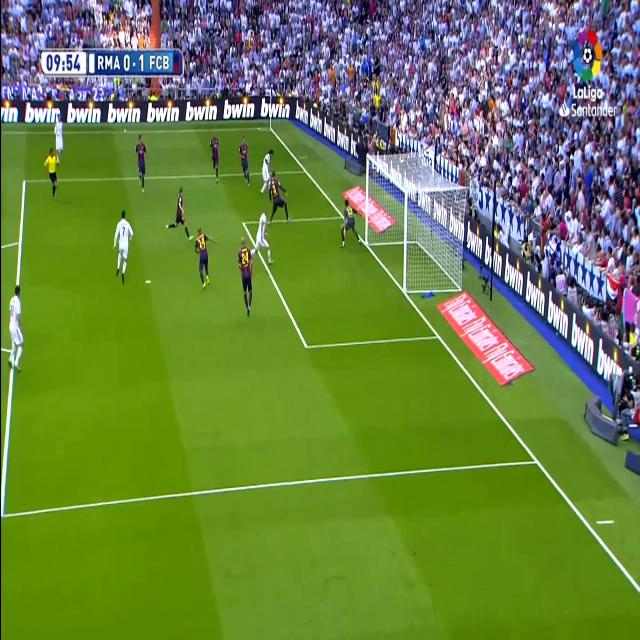bigarea_bottom_inner: (301, 332, 311, 357)
bottom_arc_area_intersection: (531, 448, 543, 473)
corner: (265, 122, 273, 133)
smallarea_bottom_outter: (433, 324, 443, 346)
smallarea_top_outter: (339, 208, 345, 222)
